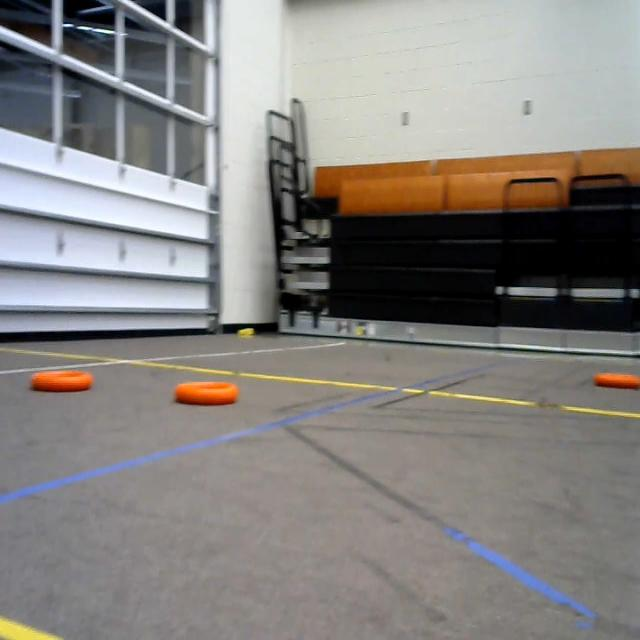note: (170, 371, 243, 410), (26, 363, 96, 402), (595, 362, 640, 403)
